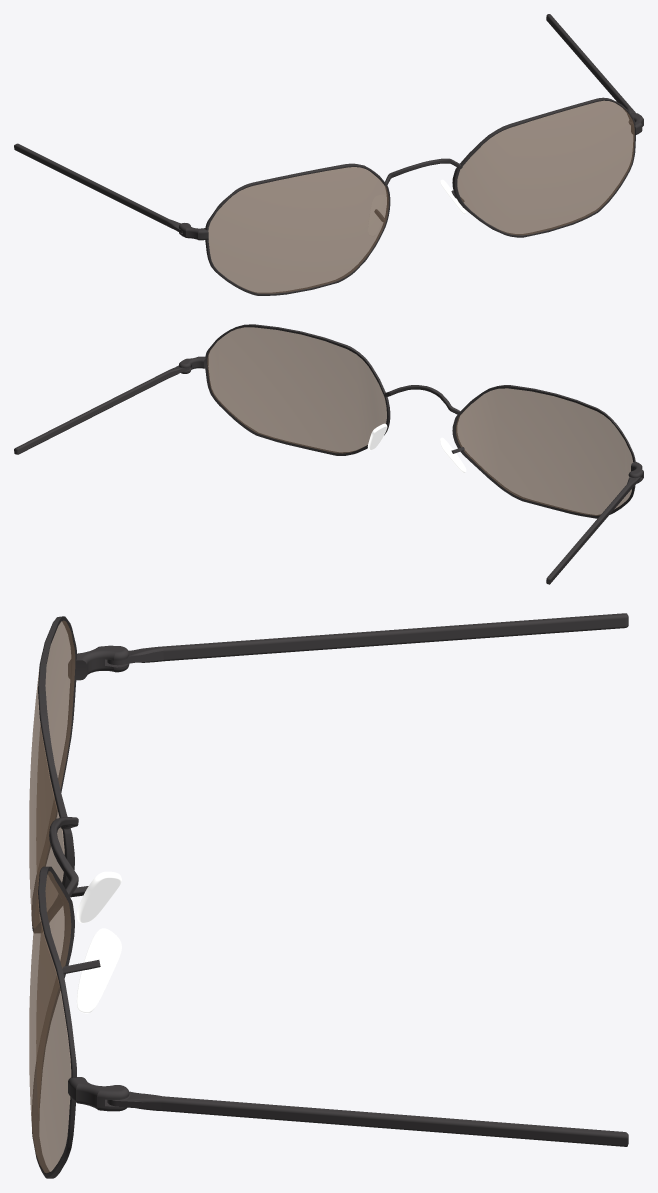
Rendered from sunglasses-euphoria.glb.
3 renders of one model, top to bottom at view 1: azimuth 30°, elevation 25°; view 2: azimuth 150°, elevation 25°; view 3: azimuth 270°, elevation 25°, orthographic. The views are drawn at different scales.
Visible parts, largest first — view 1: main, rightEar, leftEar; view 2: main, leftEar, rightEar; view 3: main, rightEar, leftEar.
Boxes of the visible parts, x1,y1,x2,y2 form: main: (163, 97, 643, 295); rightEar: (14, 143, 165, 224); leftEar: (546, 14, 628, 107); main: (164, 324, 643, 518); leftEar: (14, 372, 167, 454); rightEar: (546, 485, 629, 584); main: (29, 616, 170, 1178); rightEar: (170, 613, 628, 660); leftEar: (170, 1097, 628, 1146).
Size of the model in its own units: 2.2 by 0.4578 by 1.06.
Materials: 3 (1 with a texture image).
